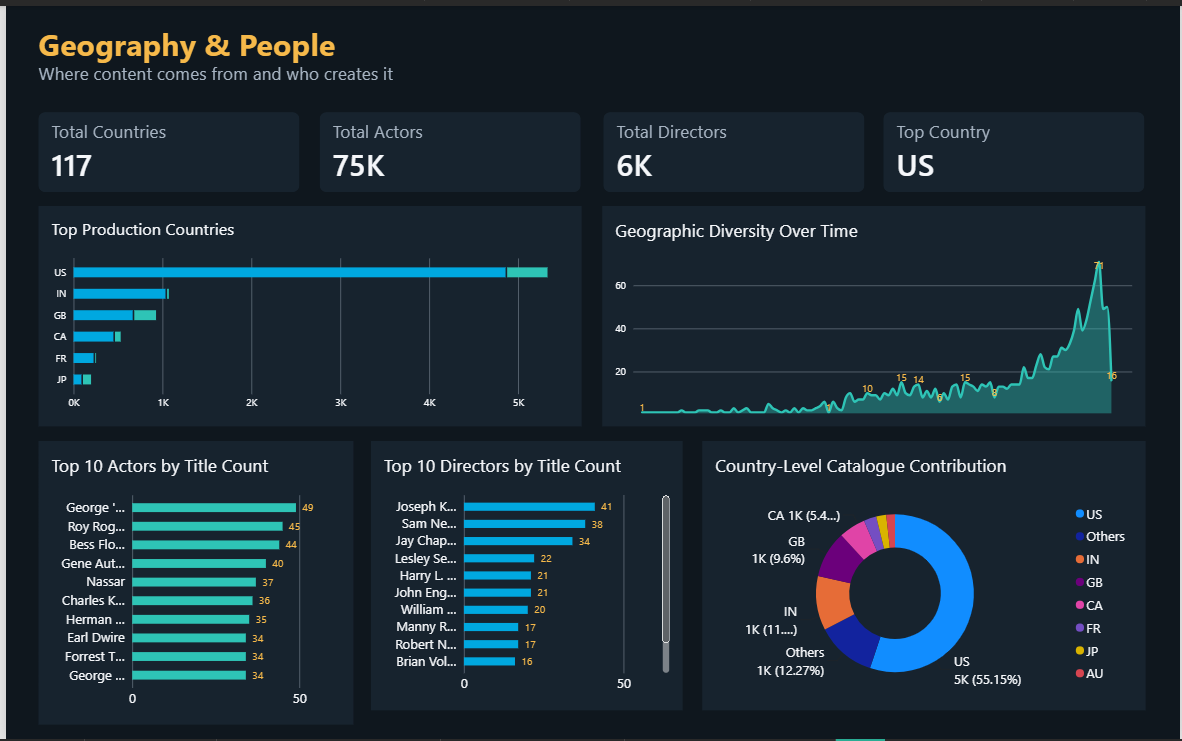

This screenshot's page, from the dashboard's own definition file:
{"tool":"powerbi","page":{"name":"Geography & People","canvas":[1440,900],"ordinal":4},"visuals":[{"type":"textbox","box":[40,22,463.3,60],"z":0},{"type":"textbox","box":[40,68,948,86],"z":1000},{"type":"cardVisual","fields":{"Data":["Country Analysis.Total Countries"]},"box":[40,130,320,98],"z":2000},{"type":"cardVisual","fields":{"Data":["credits.Total Actors"]},"box":[385.7,130,320,98],"z":3000},{"type":"cardVisual","fields":{"Data":["credits.Total Directors"]},"box":[732.9,130,320,98],"z":4000},{"type":"cardVisual","fields":{"Data":["Country Analysis.Top Country"]},"box":[1077.1,130,320,98],"z":5000},{"type":"barChart","title":"Top Production Countries","fields":{"Category":["Country Analysis.production_countries"],"Series":["Country Analysis.type"],"Y":["Country Analysis.Titles by Country"]},"box":[40,246,666,270],"z":6000},{"type":"donutChart","title":"Country-Level Catalogue Contribution","fields":{"Category":["Country Groups.Country"],"Y":["Country Analysis.Titles by Country Group"]},"box":[854,534,544,330],"z":7000},{"type":"barChart","title":"Top 10 Actors by Title Count","fields":{"Category":["credits.name"],"Y":["CountNonNull(credits.id)"]},"box":[40,534,386,348],"z":8000},{"type":"lineChart","title":"Geographic Diversity Over Time","fields":{"Category":["Country Analysis.release_year"],"Y":["Country Analysis.Production Countries Over Time"]},"box":[732,246,666,270],"z":9000},{"type":"barChart","title":"Top 10 Directors by Title Count","fields":{"Category":["credits.name"],"Y":["CountNonNull(credits.id)"]},"box":[448,534,382,330],"z":10000}]}

Visuals, with their boxes in screenshot pixels (x1, y1, x2, y2), scaled from the page's 1440x900 canvas onto the 1182x741 screenshot:
textbox: 33 18 413 68
textbox: 33 56 811 127
cardVisual - Country Analysis.Total Countries: 33 107 296 188
cardVisual - credits.Total Actors: 317 107 579 188
cardVisual - credits.Total Directors: 602 107 864 188
cardVisual - Country Analysis.Top Country: 884 107 1147 188
"Top Production Countries" barChart: 33 203 580 425
"Country-Level Catalogue Contribution" donutChart: 701 440 1148 711
"Top 10 Actors by Title Count" barChart: 33 440 350 726
"Geographic Diversity Over Time" lineChart: 601 203 1148 425
"Top 10 Directors by Title Count" barChart: 368 440 681 711
